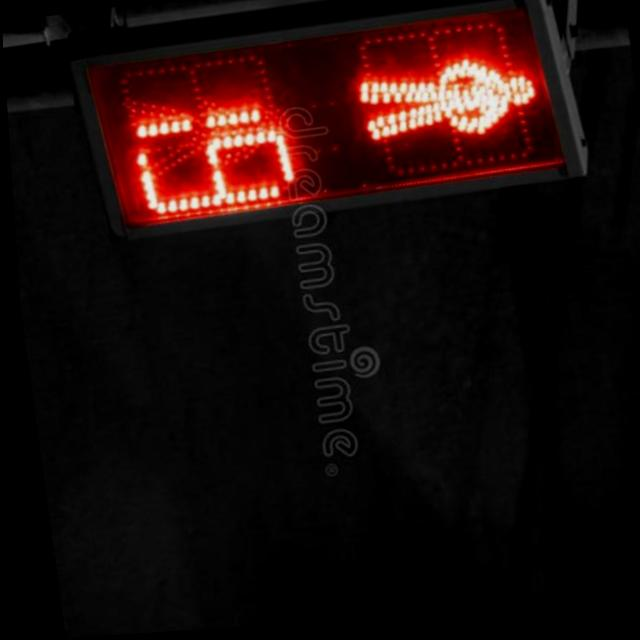red_light: (341, 10, 543, 190)
